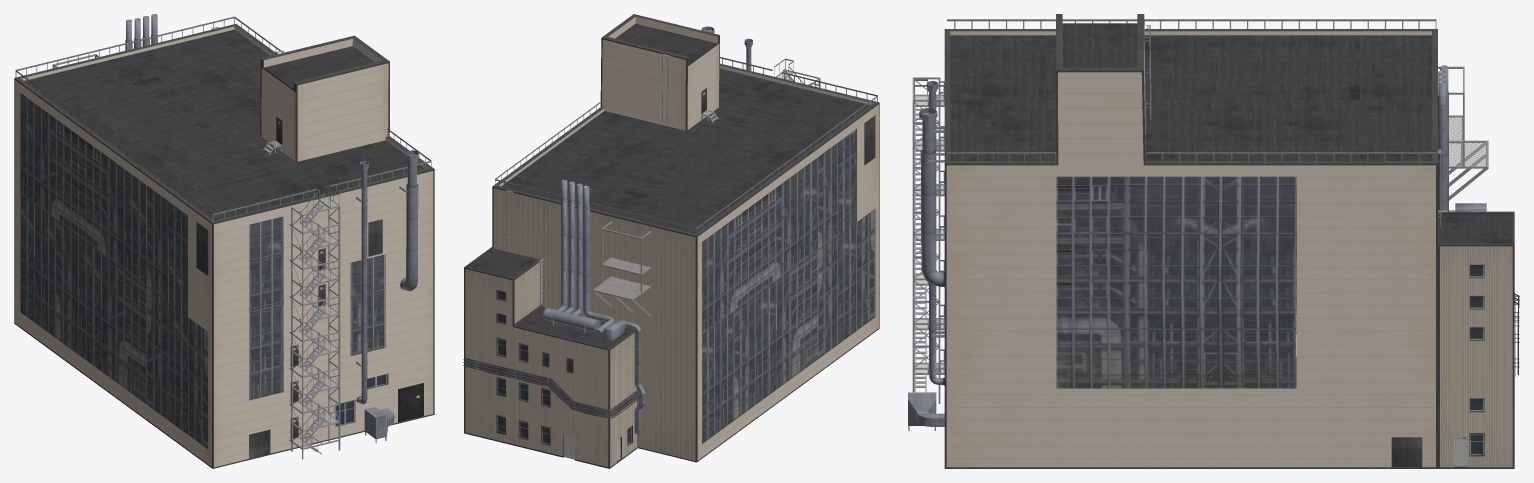
Rendered from plant-building14.glb.
3 renders of one model, left to right at view 1: azimuth 30°, elevation 25°; view 2: azimuth 150°, elevation 25°; view 3: azimuth 270°, elevation 25°, orthographic. The views are drawn at different scales.
Visible parts, largest first — view 1: Object8933731; view 2: Object8933731; view 3: Object8933731.
Part boxes in pixels (<box>): Object8933731: <box>14,14,434,468</box>; Object8933731: <box>463,14,879,468</box>; Object8933731: <box>908,14,1519,468</box>.
Bounding box in the file's own units: 24.33 × 33.57 × 46.73.
1 material, 1 textured.
